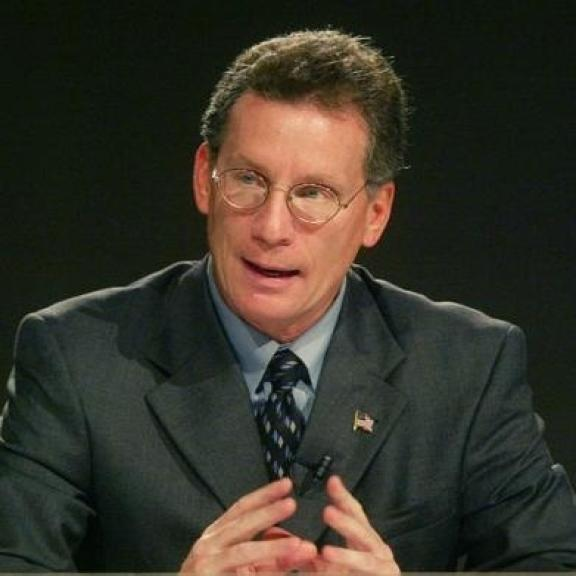face: (190, 32, 404, 328)
